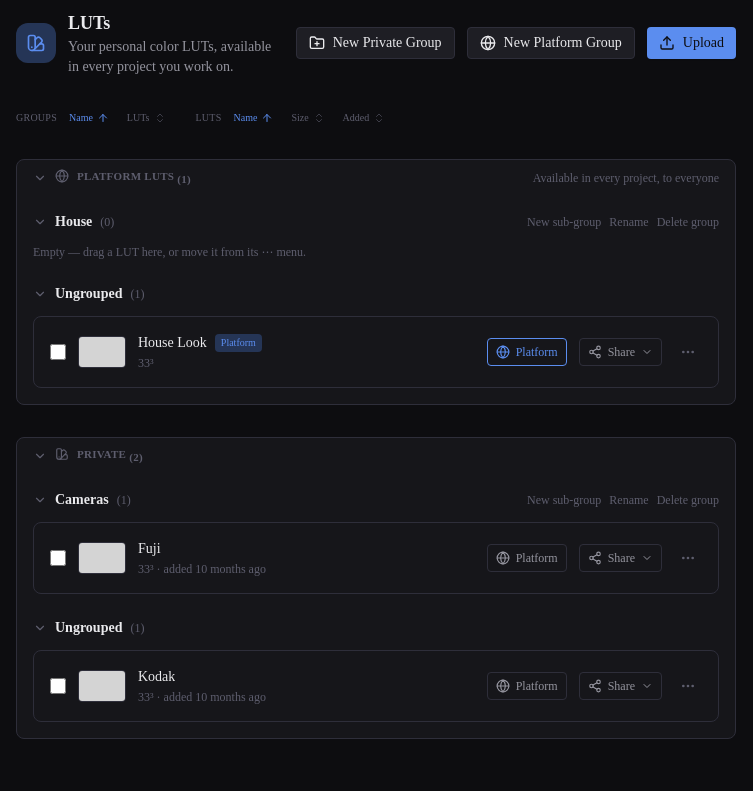
platform promote and demote › leaves the skipped ones selected, since they were never attempted
Click the checkbox named "Select Kodak". click: (58, 686)
box: [50,678,66,694]
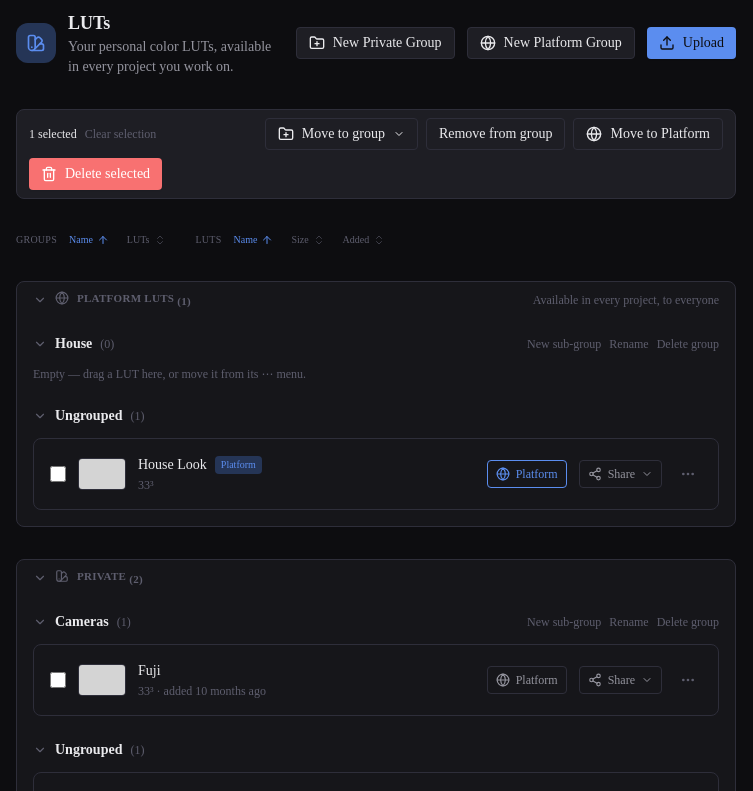
Click the checkbox named "Select House Look". click: (58, 474)
box: [50,466,66,482]
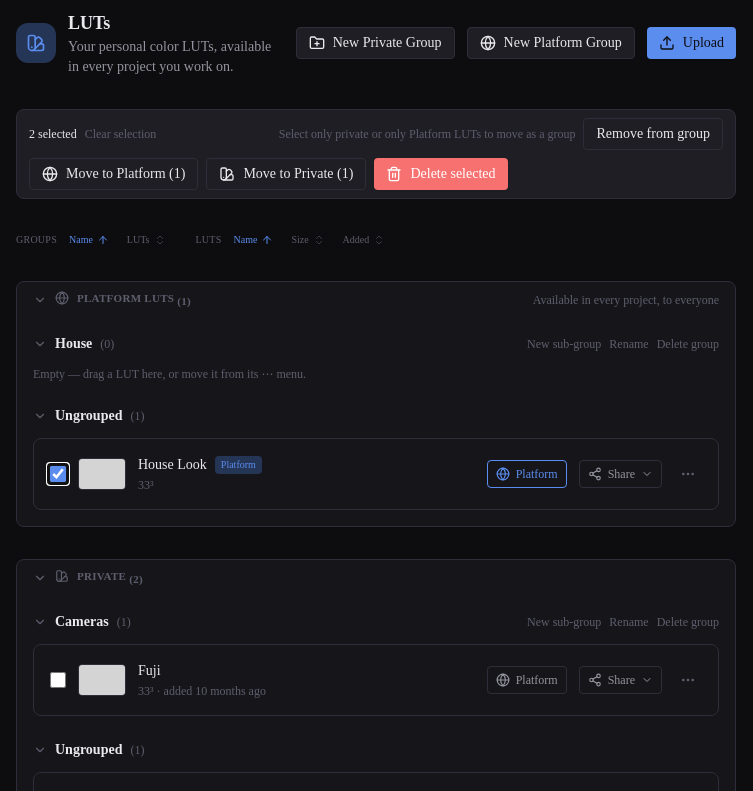
Expected: the text "2 selected" is shown, [29,126,77,142]
Click the button "Move to Platform (1)". click: (114, 174)
box: [29,158,198,190]
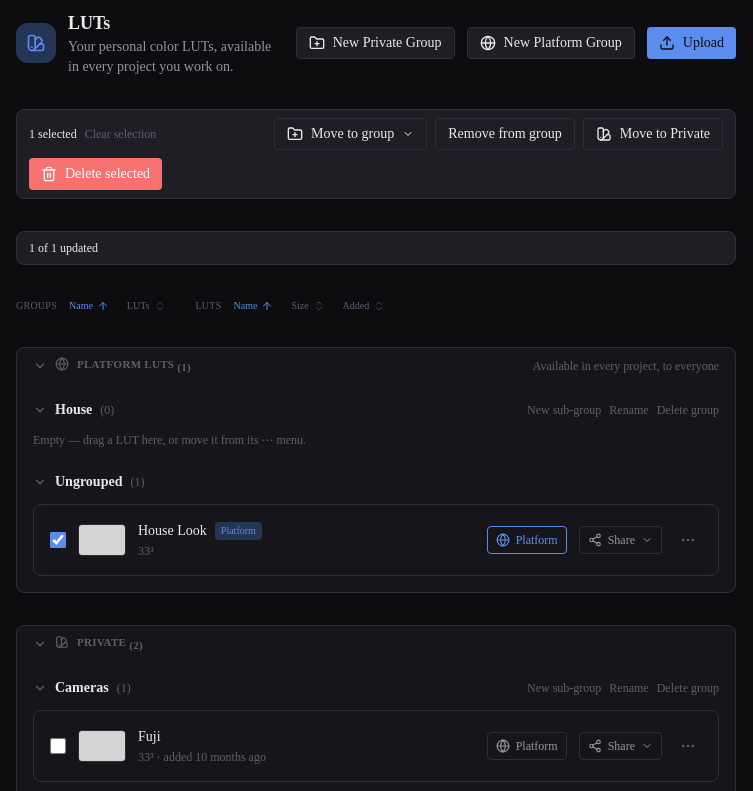
Expected: the text "1 selected" is shown, [29,126,77,142]
Expected: the text "1 of 1 updated" is shown, [29,241,98,255]
